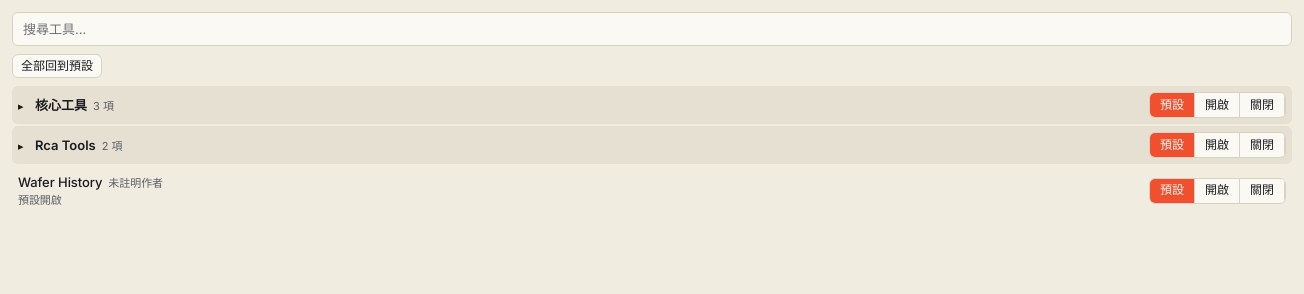
Test: ToolsChecklist folds rows by group › a search hides folds with no match and opens a matching fold on just its matches
In the field with test id "tools-search": (652, 29) [12, 12, 1292, 46], type "spc"
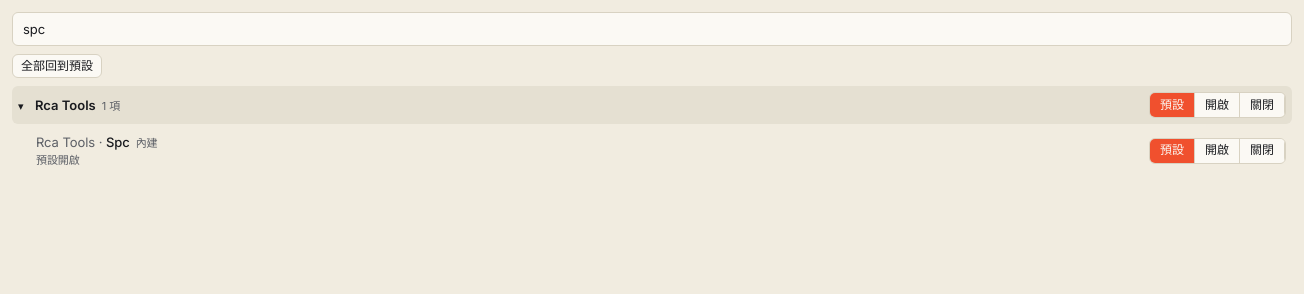
Expected: the button with test id "tool-group-header-builtin" is gone
Expected: the element with test id "tool-row-wafer-history" is gone
Expected: the element with test id "tool-row-rca-tools:spc" is shown, [12, 126, 1292, 175]
the fold's own name matches too, and then every row of it shows
Replace the text in the field with test id "tools-search" with "核心": (652, 29) [12, 12, 1292, 46]
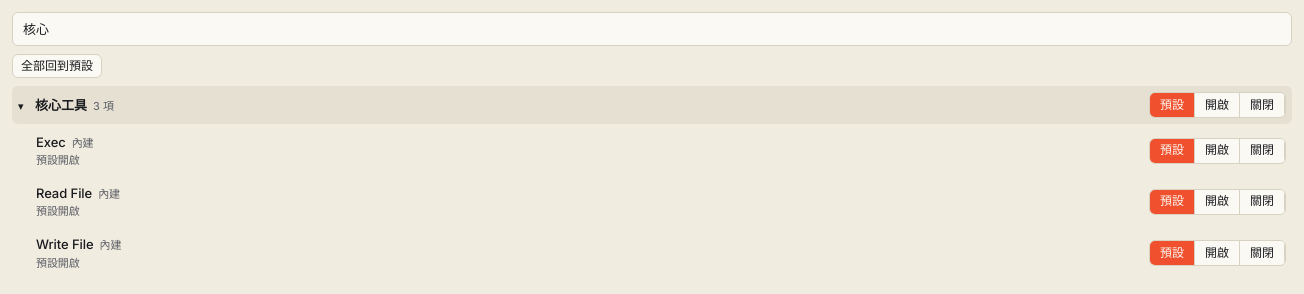
Expected: the element with test id "tool-row-exec" is shown, [12, 126, 1292, 175]
Expected: the element with test id "tool-row-write_file" is shown, [12, 228, 1292, 278]
Expected: the button with test id "tool-group-header-rca-tools" is gone
